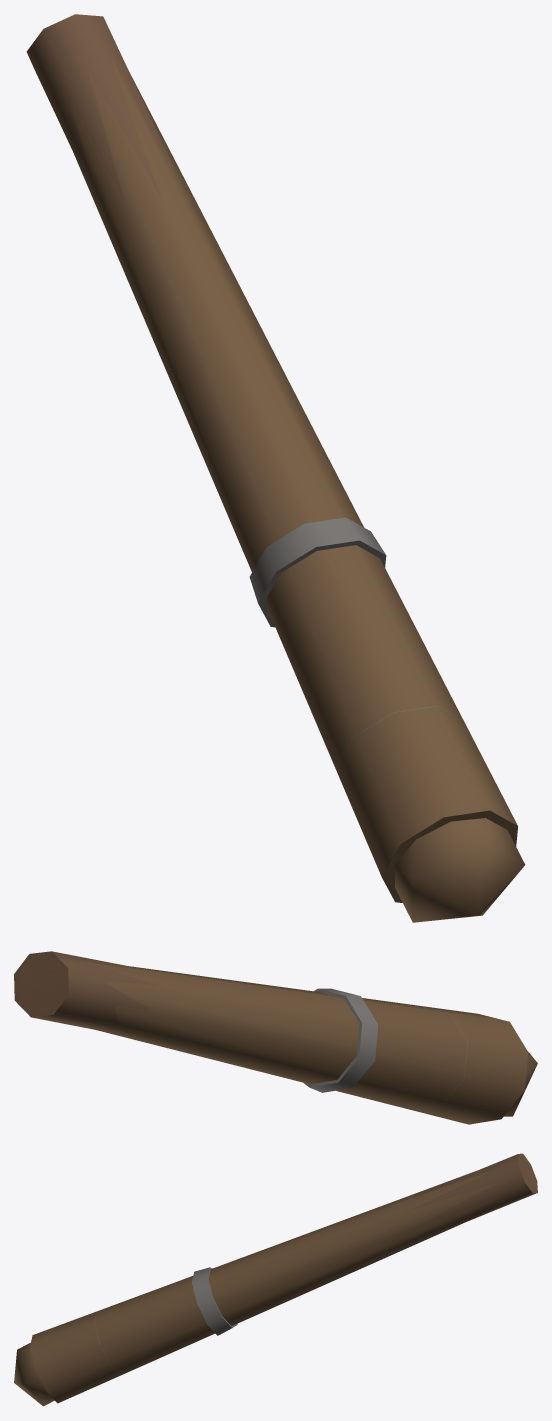
The model's file is wpn_club.glb.
3 renders of one model, top to bottom at view 1: azimuth 30°, elevation 25°; view 2: azimuth 150°, elevation 25°; view 3: azimuth 270°, elevation 25°, orthographic. The views are drawn at different scales.
Parts seen in each view (by area): view 1: wpn_club; view 2: wpn_club; view 3: wpn_club.
Part boxes in pixels (bbox=[...]): wpn_club: bbox=[26, 14, 525, 922]; wpn_club: bbox=[14, 951, 537, 1124]; wpn_club: bbox=[14, 1153, 537, 1406].
Bounding box in the file's own units: 0.0685 × 0.1752 × 0.3096.
